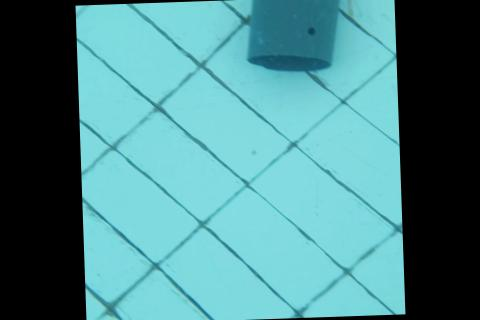kebocoran: (305, 26, 315, 36)
